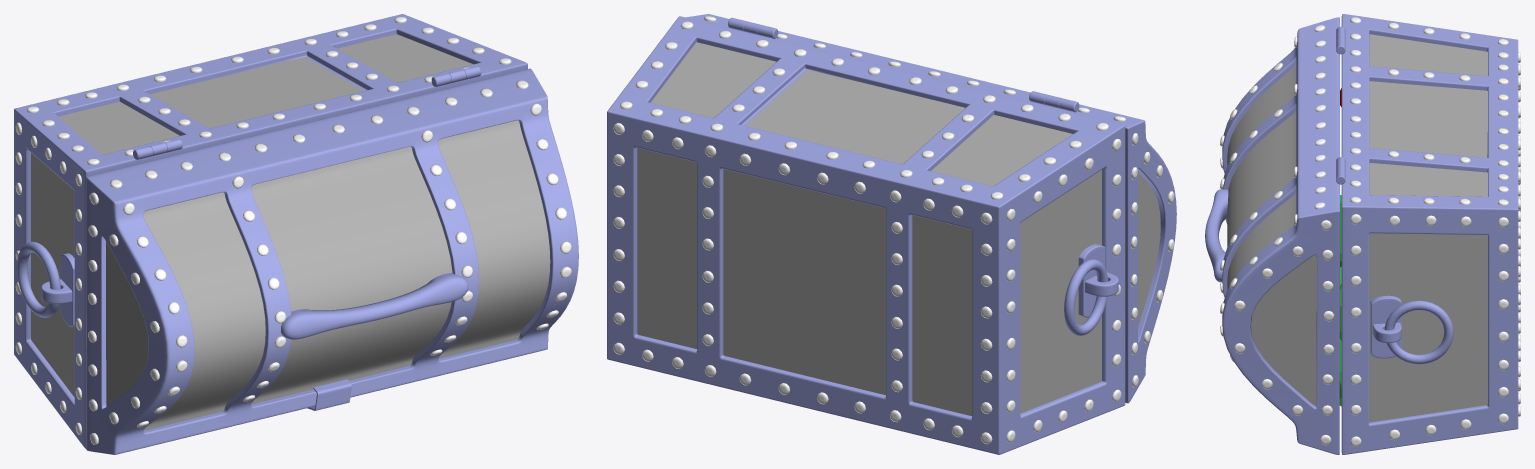
Rendered from takaraTozi 1.fbx.
The picture shows the model from 3 angles, left to right: view 1: azimuth 30°, elevation 25°; view 2: azimuth 150°, elevation 25°; view 3: azimuth 270°, elevation 25°; orthographic projection. The views are drawn at different scales.
Parts seen in each view (by area): view 1: _aquarium_treasure_chest_v1_L2:aquarium_treasure_chest_metal, _aquarium_treasure_chest_v1_L2:aquarium_treasure_chest_wood, _aquarium_treasure_chest_v1_L2:aquarium_treasure_chest_bolts, _aquarium_treasure_chest_v1_L2:aquarium_treasure_chest_latch; view 2: _aquarium_treasure_chest_v1_L2:aquarium_treasure_chest_wood, _aquarium_treasure_chest_v1_L2:aquarium_treasure_chest_metal, _aquarium_treasure_chest_v1_L2:aquarium_treasure_chest_bolts, _aquarium_treasure_chest_v1_L2:aquarium_treasure_chest_latch; view 3: _aquarium_treasure_chest_v1_L2:aquarium_treasure_chest_metal, _aquarium_treasure_chest_v1_L2:aquarium_treasure_chest_wood, _aquarium_treasure_chest_v1_L2:aquarium_treasure_chest_bolts, _aquarium_treasure_chest_v1_L2:aquarium_treasure_chest_latch, _aquarium_treasure_chest_v1_L2:aquarium_treasure_chest_stone.
Part boxes in pixels (x1=…): _aquarium_treasure_chest_v1_L2:aquarium_treasure_chest_metal: x1=14, y1=14, x2=578, y2=454; _aquarium_treasure_chest_v1_L2:aquarium_treasure_chest_wood: x1=31, y1=34, x2=550, y2=430; _aquarium_treasure_chest_v1_L2:aquarium_treasure_chest_bolts: x1=15, y1=17, x2=571, y2=444; _aquarium_treasure_chest_v1_L2:aquarium_treasure_chest_latch: x1=41, y1=66, x2=481, y2=410; _aquarium_treasure_chest_v1_L2:aquarium_treasure_chest_wood: x1=637, y1=42, x2=1160, y2=416; _aquarium_treasure_chest_v1_L2:aquarium_treasure_chest_metal: x1=607, y1=14, x2=1176, y2=454; _aquarium_treasure_chest_v1_L2:aquarium_treasure_chest_bolts: x1=613, y1=16, x2=1174, y2=444; _aquarium_treasure_chest_v1_L2:aquarium_treasure_chest_latch: x1=728, y1=17, x2=1118, y2=317; _aquarium_treasure_chest_v1_L2:aquarium_treasure_chest_metal: x1=1205, y1=14, x2=1518, y2=454; _aquarium_treasure_chest_v1_L2:aquarium_treasure_chest_wood: x1=1227, y1=34, x2=1487, y2=422; _aquarium_treasure_chest_v1_L2:aquarium_treasure_chest_bolts: x1=1220, y1=17, x2=1520, y2=446; _aquarium_treasure_chest_v1_L2:aquarium_treasure_chest_latch: x1=1336, y1=26, x2=1401, y2=358; _aquarium_treasure_chest_v1_L2:aquarium_treasure_chest_stone: x1=1339, y1=195, x2=1341, y2=406.
Size of the model in its own units: 14.7 by 8.74 by 9.45.
